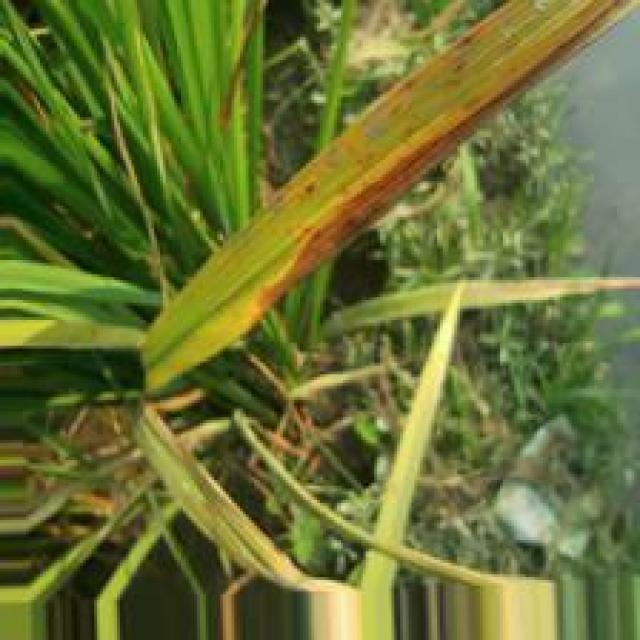Bacterial_Leaf_Blight: (250, 0, 640, 329), (448, 4, 518, 94), (373, 55, 452, 124), (270, 147, 334, 208), (336, 113, 378, 173)
